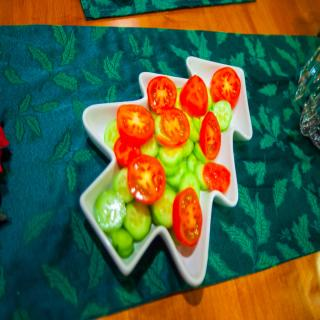tomato: (126, 155, 169, 204), (172, 187, 202, 250), (117, 103, 154, 149), (154, 105, 190, 149), (208, 66, 240, 108), (180, 74, 208, 118), (200, 110, 221, 162), (147, 76, 176, 112), (114, 134, 141, 168), (202, 162, 230, 194)
